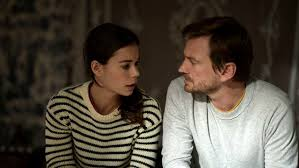Bad: (45, 16, 299, 168)
